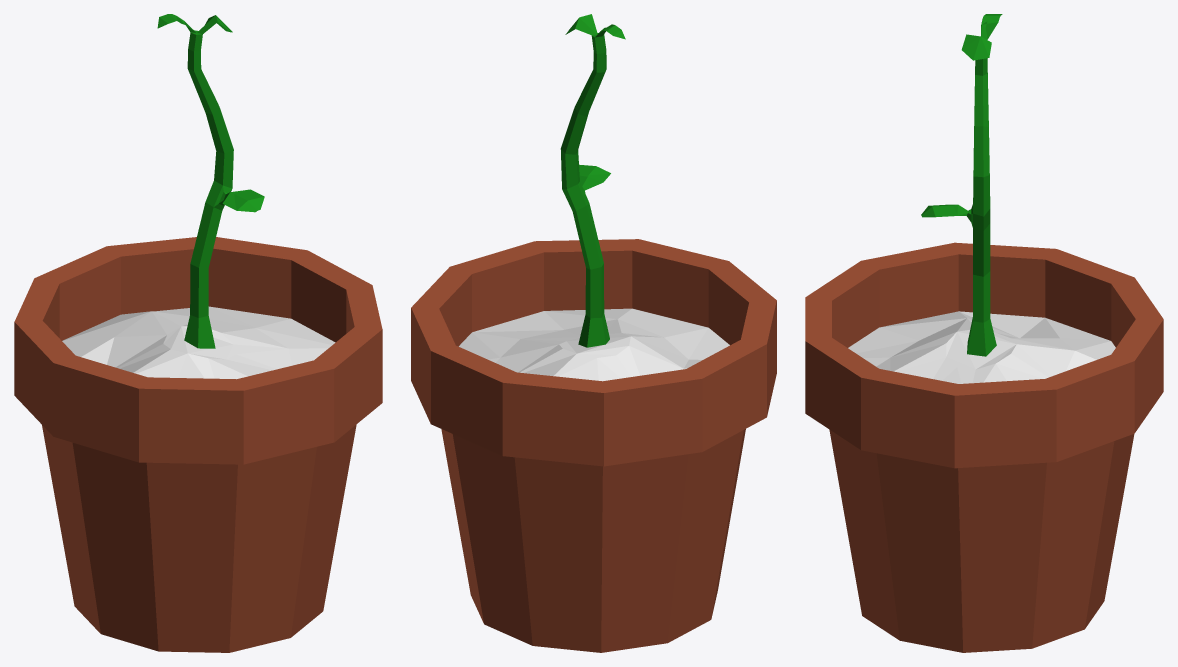
The model's file is potplantfinal.fbx.
The picture shows the model from 3 angles, left to right: view 1: azimuth 30°, elevation 25°; view 2: azimuth 150°, elevation 25°; view 3: azimuth 270°, elevation 25°; orthographic projection.
Parts seen in each view (by area): view 1: Pot, Plant; view 2: Pot, Plant; view 3: Pot, Plant.
Boxes of the visible parts, x1,y1,x2,y2 form: Pot: [14, 237, 382, 652]; Plant: [157, 14, 264, 348]; Pot: [411, 239, 776, 652]; Plant: [560, 14, 625, 347]; Pot: [805, 242, 1163, 652]; Plant: [921, 14, 1002, 356].
Size of the model in its own units: 198 by 347 by 196.
